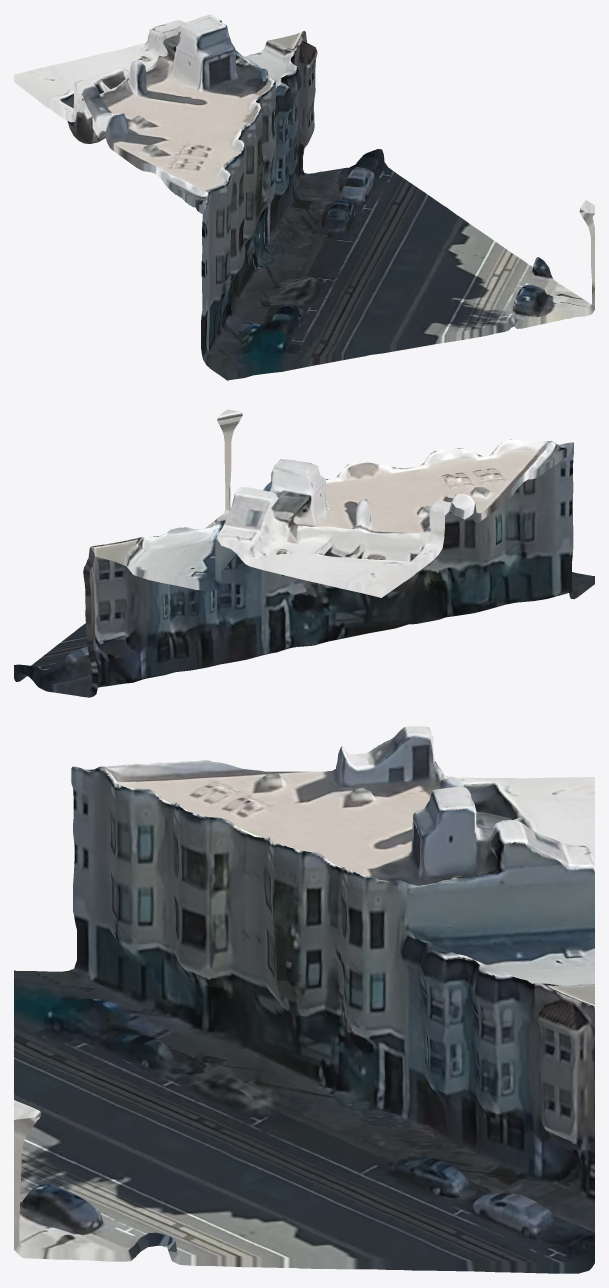
File: z20-167733-405195-h0-yup-uvflip-v3-world.glb
The picture shows the model from 3 angles, top to bottom: view 1: azimuth 30°, elevation 25°; view 2: azimuth 150°, elevation 25°; view 3: azimuth 270°, elevation 25°; orthographic projection. The views are drawn at different scales.
Bounding box in the file's own units: 30.16 × 18.68 × 30.32.
1 material, 1 textured.
